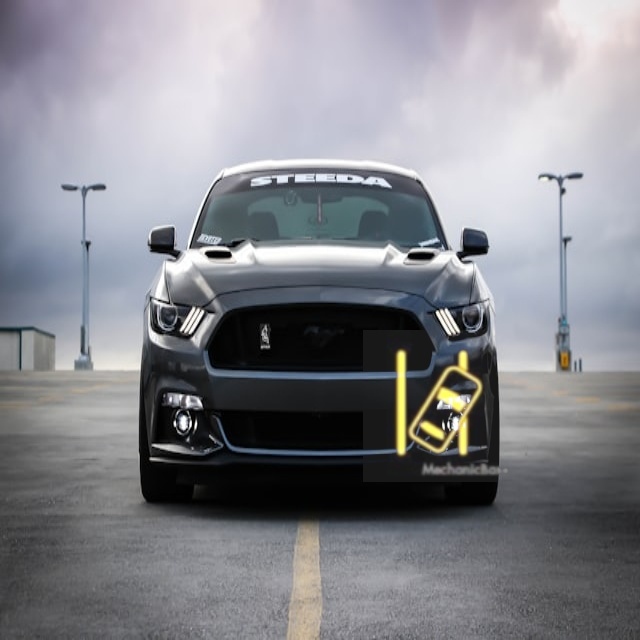symbol: (363, 330, 515, 482)
